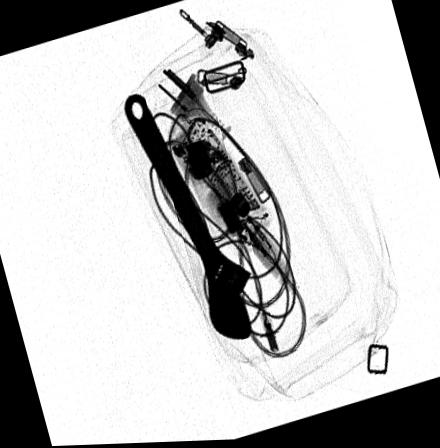Wrench: (122, 93, 255, 341)
